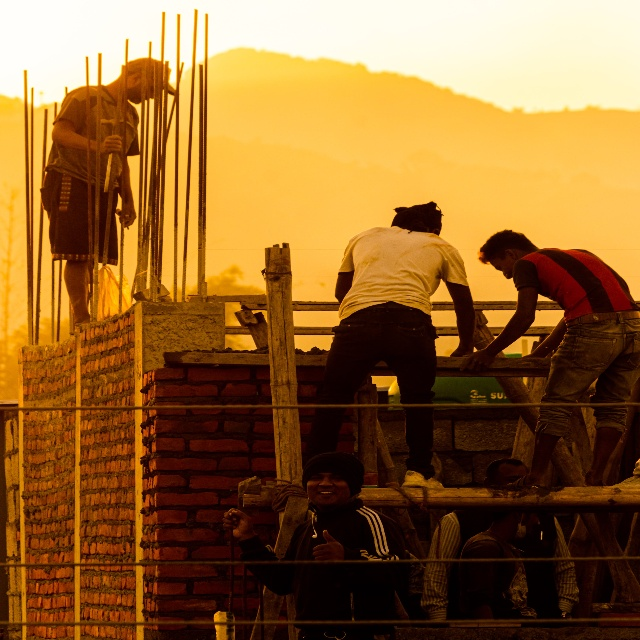Sin_guantes: (311, 529, 346, 562), (221, 505, 253, 540), (459, 345, 495, 373), (119, 195, 137, 227), (450, 339, 473, 359), (101, 134, 123, 154)
